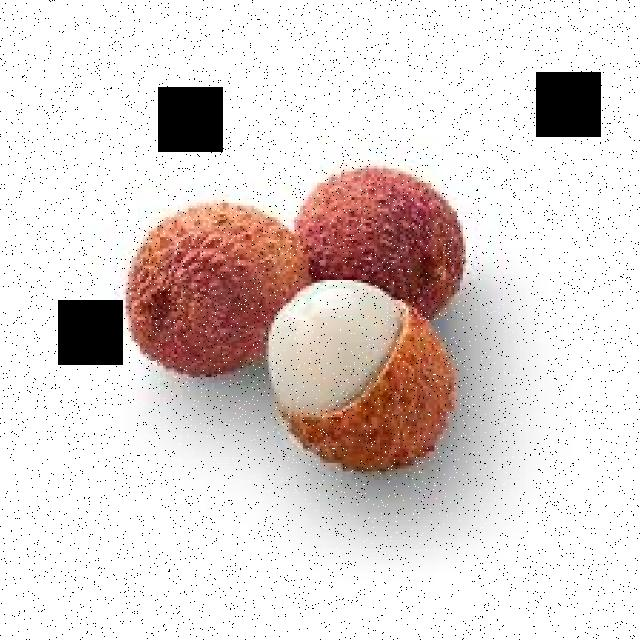lychee: (118, 159, 479, 488)
